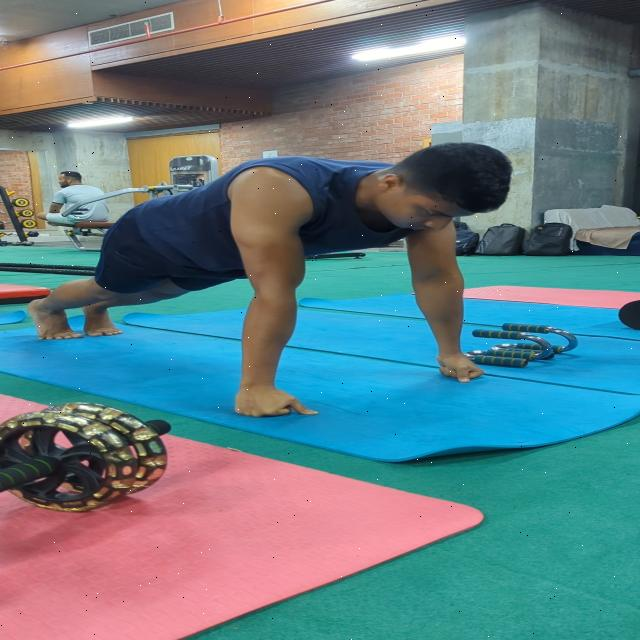Normal_PushUps: (29, 136, 516, 422)
